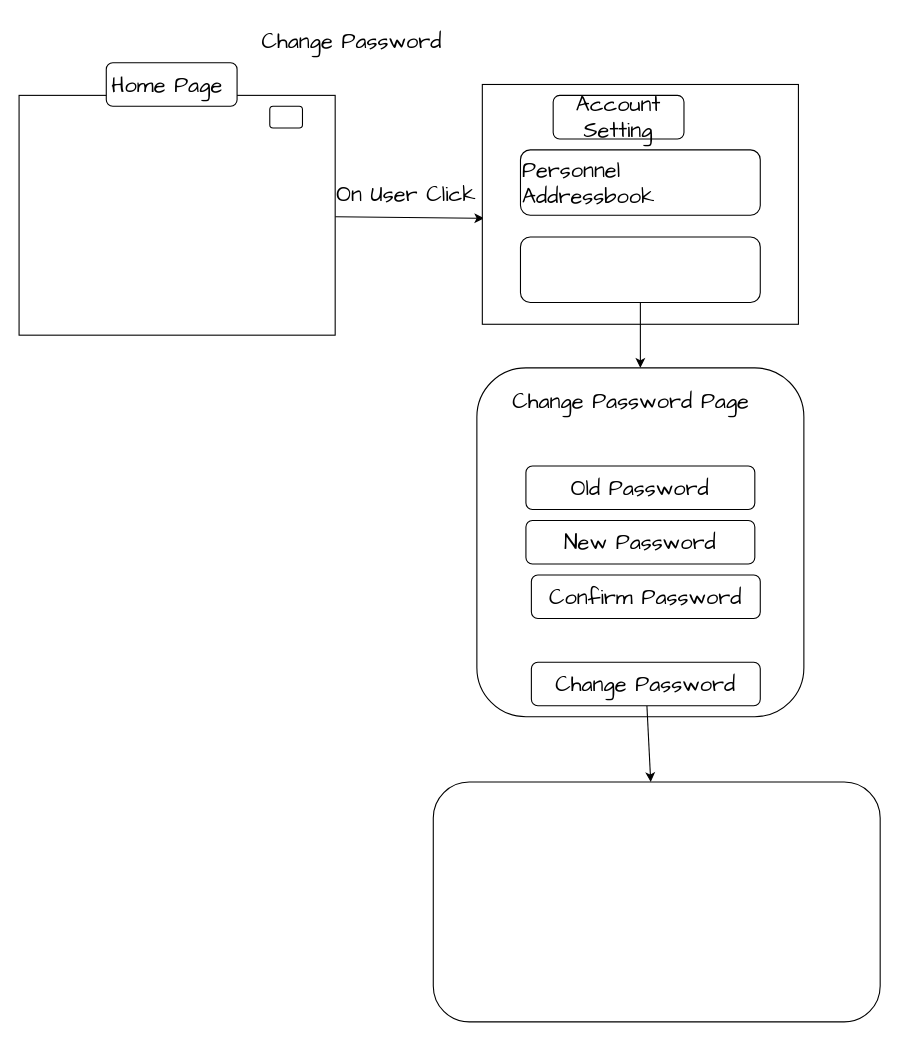
The diagram is 899 pixels wide and 1041 high, and some of its shapes have lost their labels. Here are the shapes that lost their labels. From the top down, the box of each, then its label:
(269, 105, 302, 128): user
(519, 236, 760, 302): Privacy Change Password
(432, 781, 880, 1022): Change Password Confirmation Page
